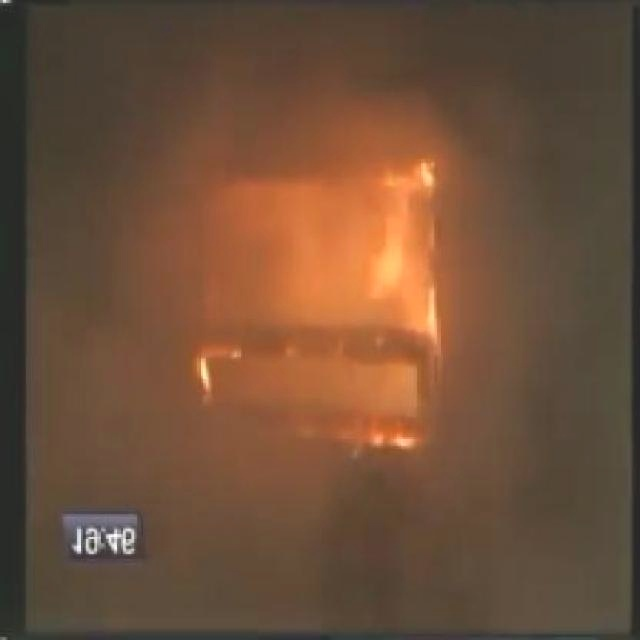fire: (137, 139, 464, 493)
